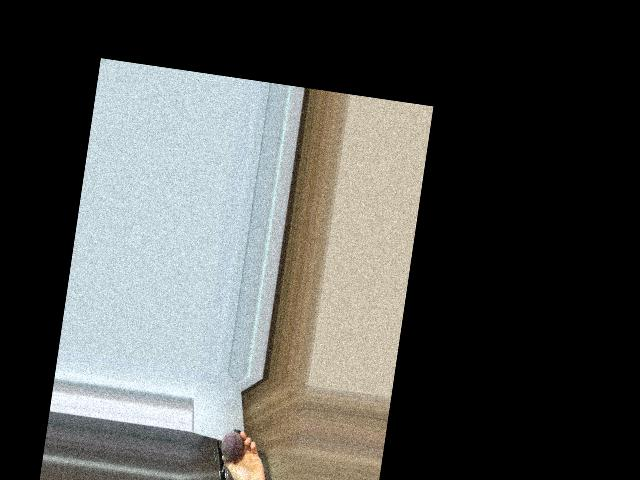beet: (218, 427, 245, 474)
